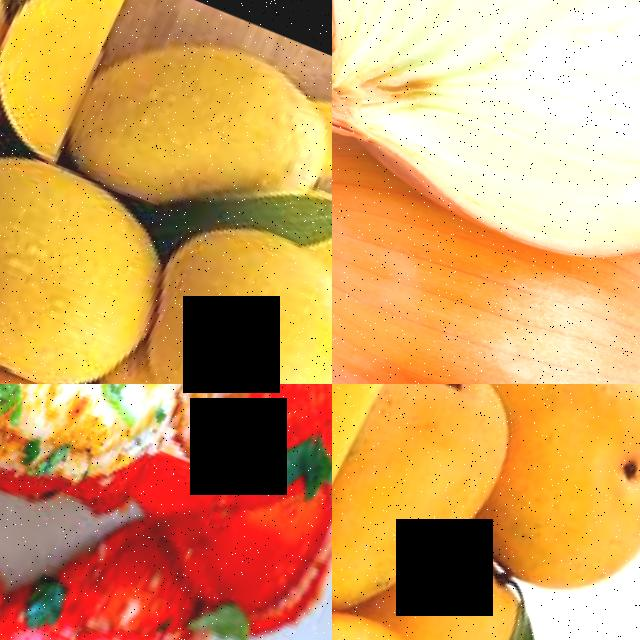lobster tails: (0, 384, 332, 624), (0, 418, 236, 640)
mango: (69, 2, 332, 223), (332, 384, 542, 640), (0, 131, 205, 384), (460, 384, 640, 625), (118, 203, 332, 384), (332, 384, 439, 574)
onion: (332, 0, 640, 298), (332, 124, 640, 384)
